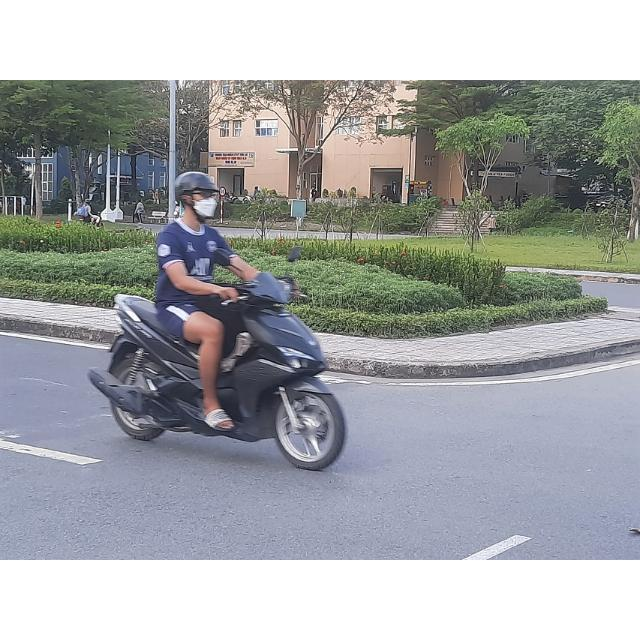Helmet: (170, 169, 220, 223)
